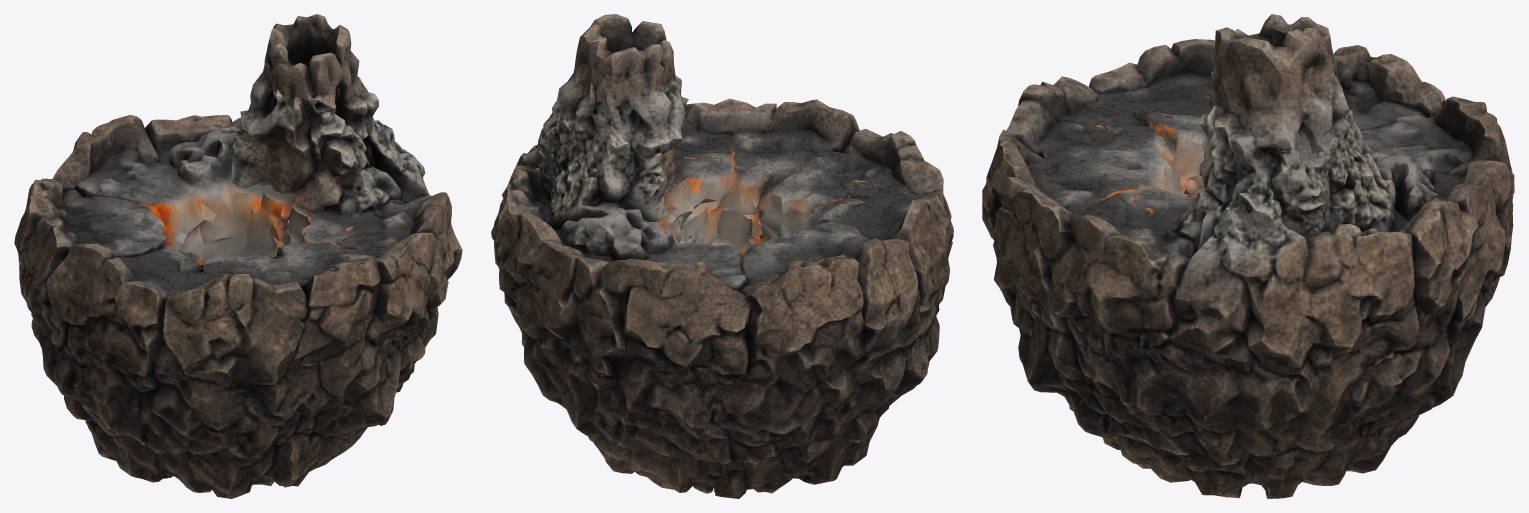
3 renders of one model, left to right at view 1: azimuth 30°, elevation 25°; view 2: azimuth 150°, elevation 25°; view 3: azimuth 270°, elevation 25°, orthographic. The views are drawn at different scales.
Parts seen in each view (by area): view 1: world; view 2: world; view 3: world.
Boxes of the visible parts, x1,y1,x2,y2 form: world: (14,14,462,498); world: (491,14,953,498); world: (982,14,1514,498).
Bounding box in the file's own units: 1 × 0.9823 × 0.9968.
Materials: 1 (1 with a texture image).
